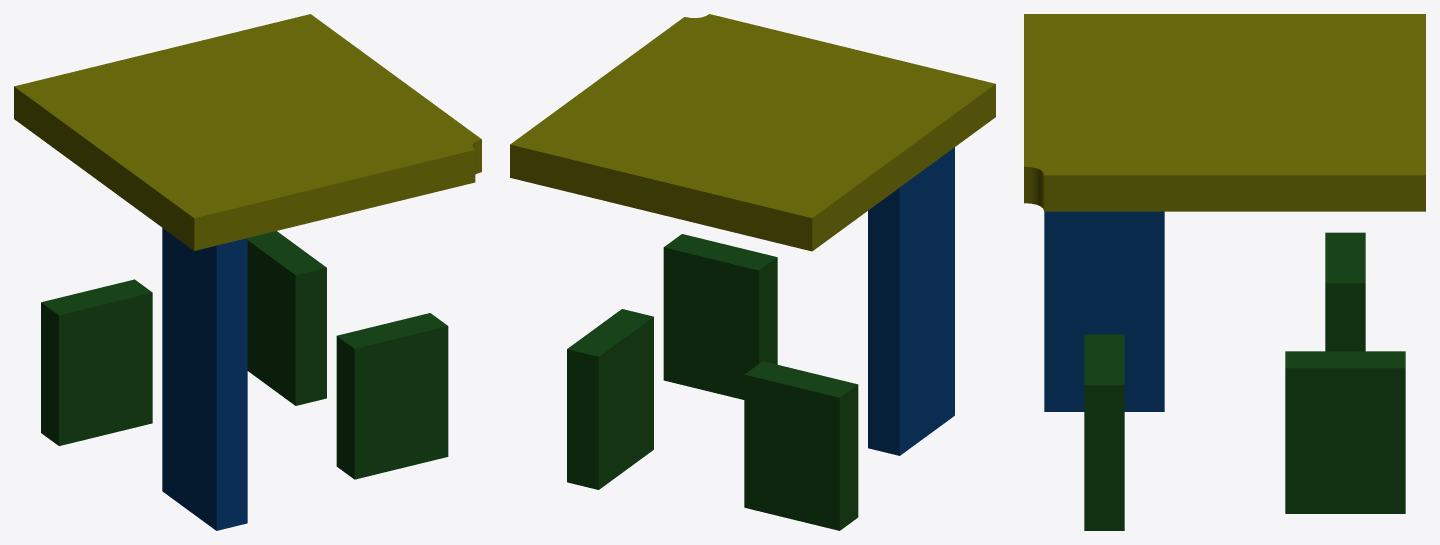
File: T9DirF.fbx
The picture shows the model from 3 angles, left to right: view 1: azimuth 30°, elevation 25°; view 2: azimuth 150°, elevation 25°; view 3: azimuth 270°, elevation 25°; orthographic projection. The views are drawn at different scales.
Visible parts, largest first — view 1: 3, 1, 4, 2; view 2: 3, 4, 2, 1; view 3: 2, 3, 1, 4.
Part boxes in pixels (left/top/right/bottom): 3: left=104, top=116, right=342, bottom=530; 1: left=253, top=80, right=481, bottom=479; 4: left=14, top=50, right=251, bottom=445; 2: left=162, top=14, right=400, bottom=405; 3: left=753, top=47, right=995, bottom=455; 4: left=661, top=114, right=903, bottom=530; 2: left=510, top=77, right=752, bottom=489; 1: left=602, top=14, right=844, bottom=399; 2: left=1225, top=94, right=1425, bottom=513; 3: left=1024, top=14, right=1224, bottom=411; 1: left=1024, top=94, right=1224, bottom=530; 4: left=1225, top=14, right=1425, bottom=351.
Bounding box in the file's own units: 190 × 200 × 200.
